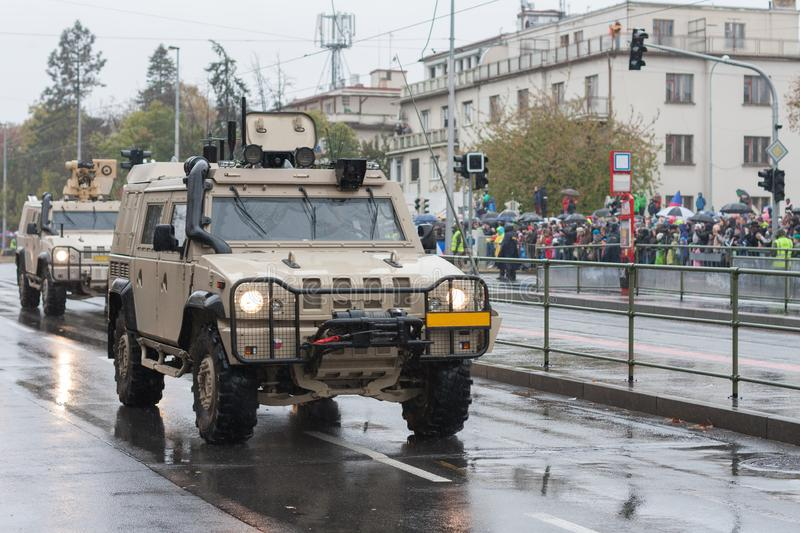jeep: (117, 158, 492, 436)
